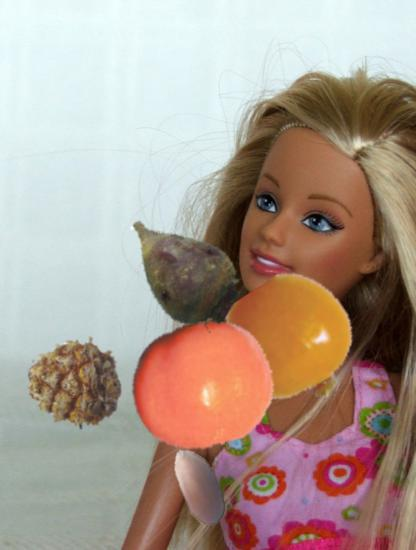Beetroot: (114, 207, 246, 339)
Clementine: (129, 312, 274, 457)
Hazelnut: (157, 444, 242, 529), (27, 337, 100, 410)
Physalis: (226, 277, 360, 411)
Pineapple: (22, 333, 124, 435)
